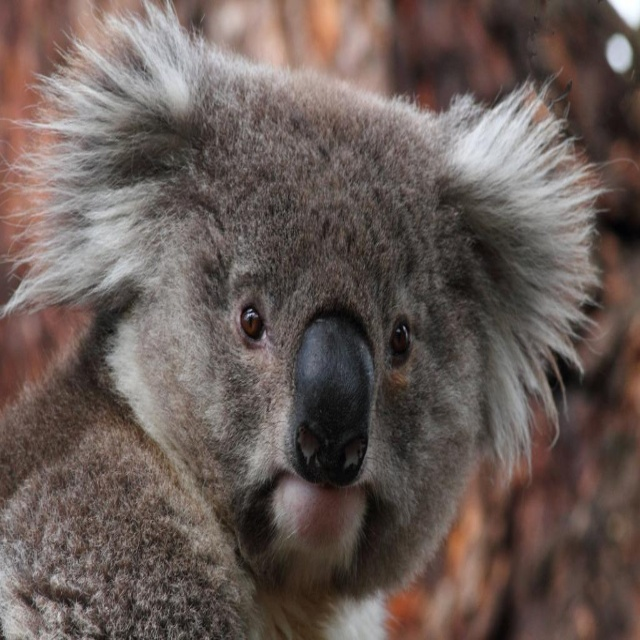Koala: (0, 0, 612, 639)
